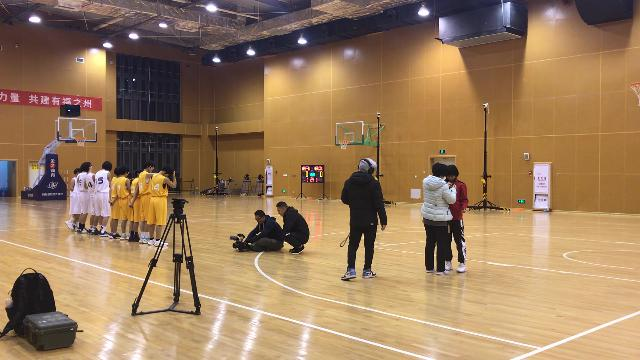basket: (74, 136, 86, 146), (338, 140, 348, 148)
